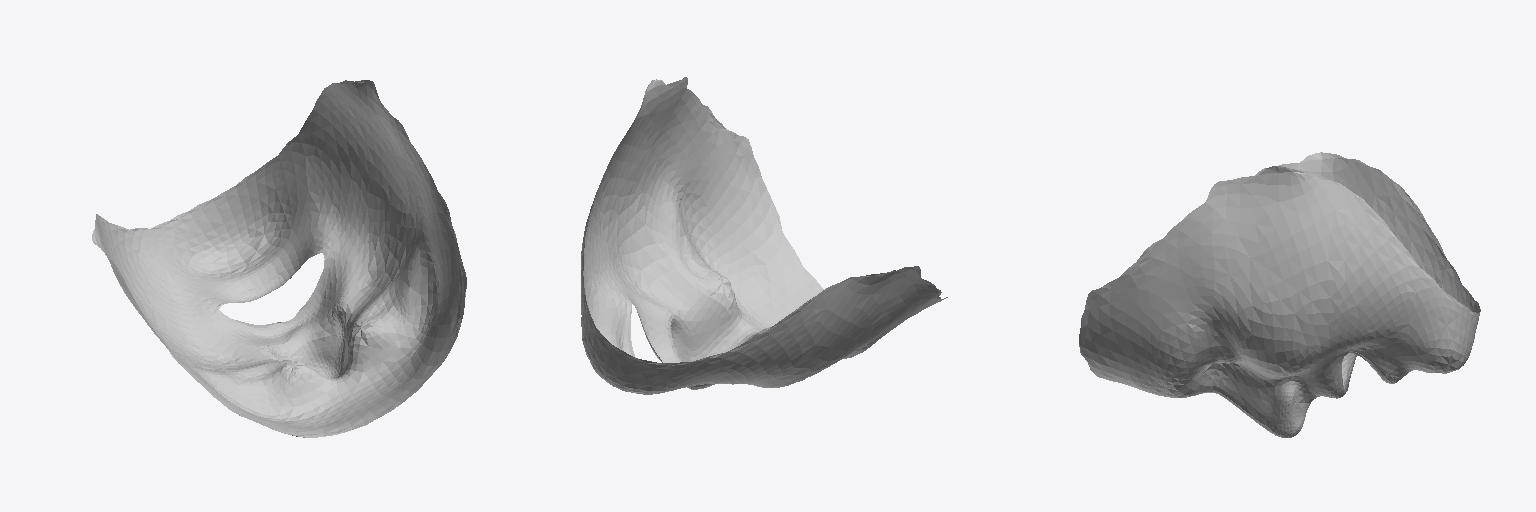
Rendered from face_gab_sfm88.obj.
3 views of the same model, side by side, from view 1: azimuth 30°, elevation 25°; view 2: azimuth 150°, elevation 25°; view 3: azimuth 270°, elevation 25° (orthographic).
Bounding box in the file's own units: 166 × 163 × 203.